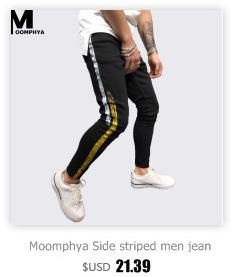jeans: (66, 32, 157, 174)
